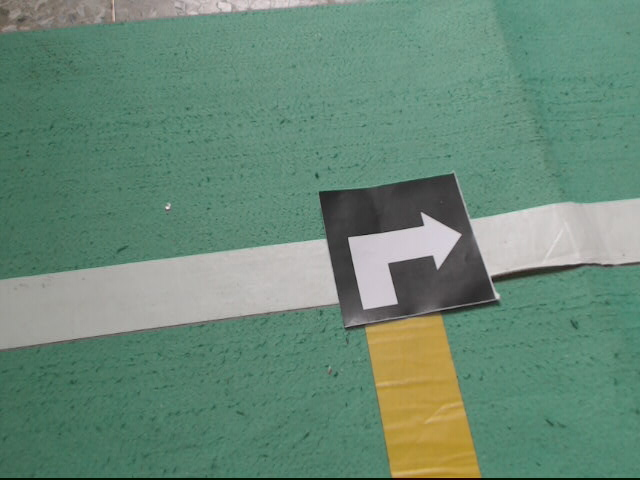right: (317, 172, 504, 329)
